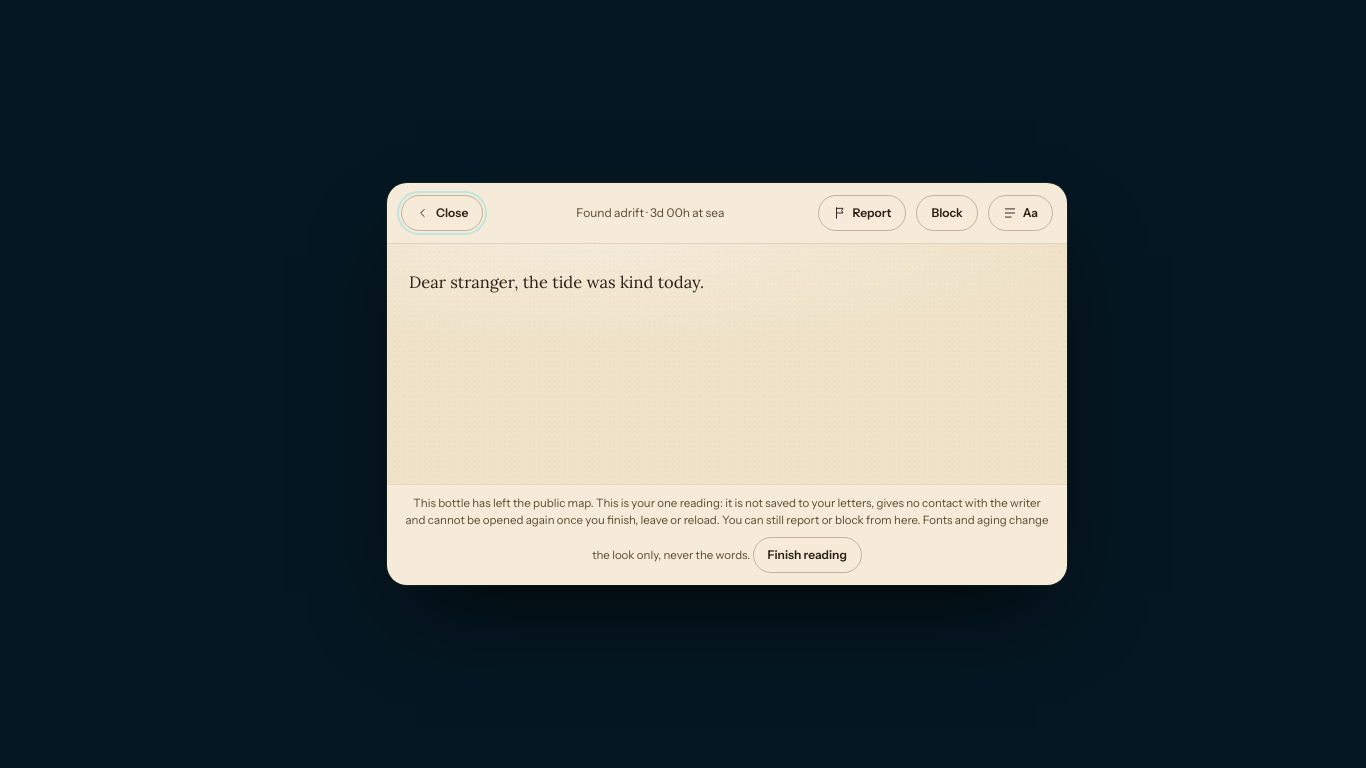
Test: the report form fits a short screen (FE-R-001) › keeps every control reachable by keyboard, in order, trapped inside the reader
Later steps or results of the test are not shown.
Click the button with aria-label "Report this letter". click: (862, 213)
box: [818,196,906,231]
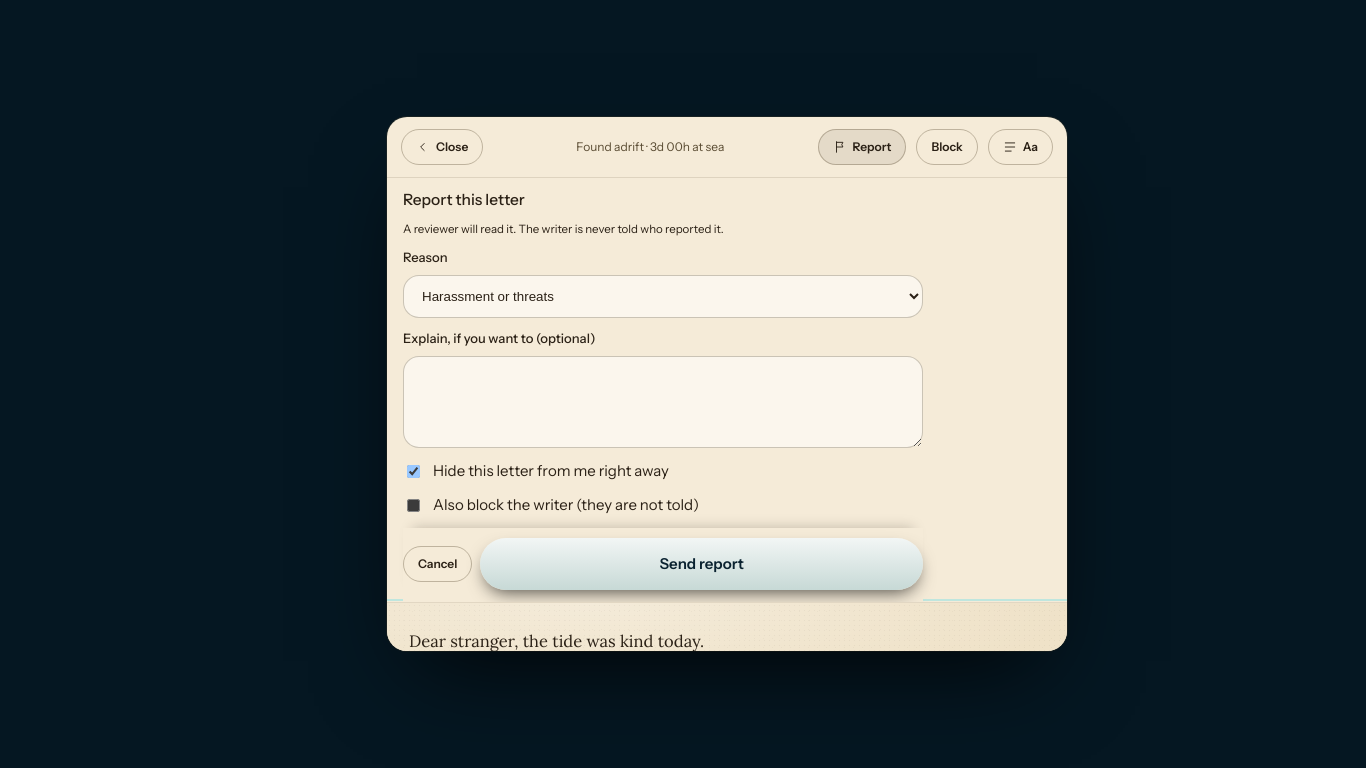
expect the button "Finish reading" is gone: met
